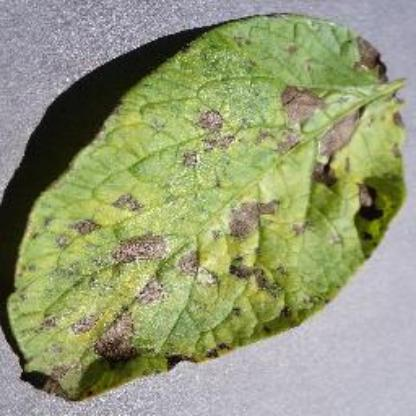Early-Blight: (7, 10, 404, 400)
